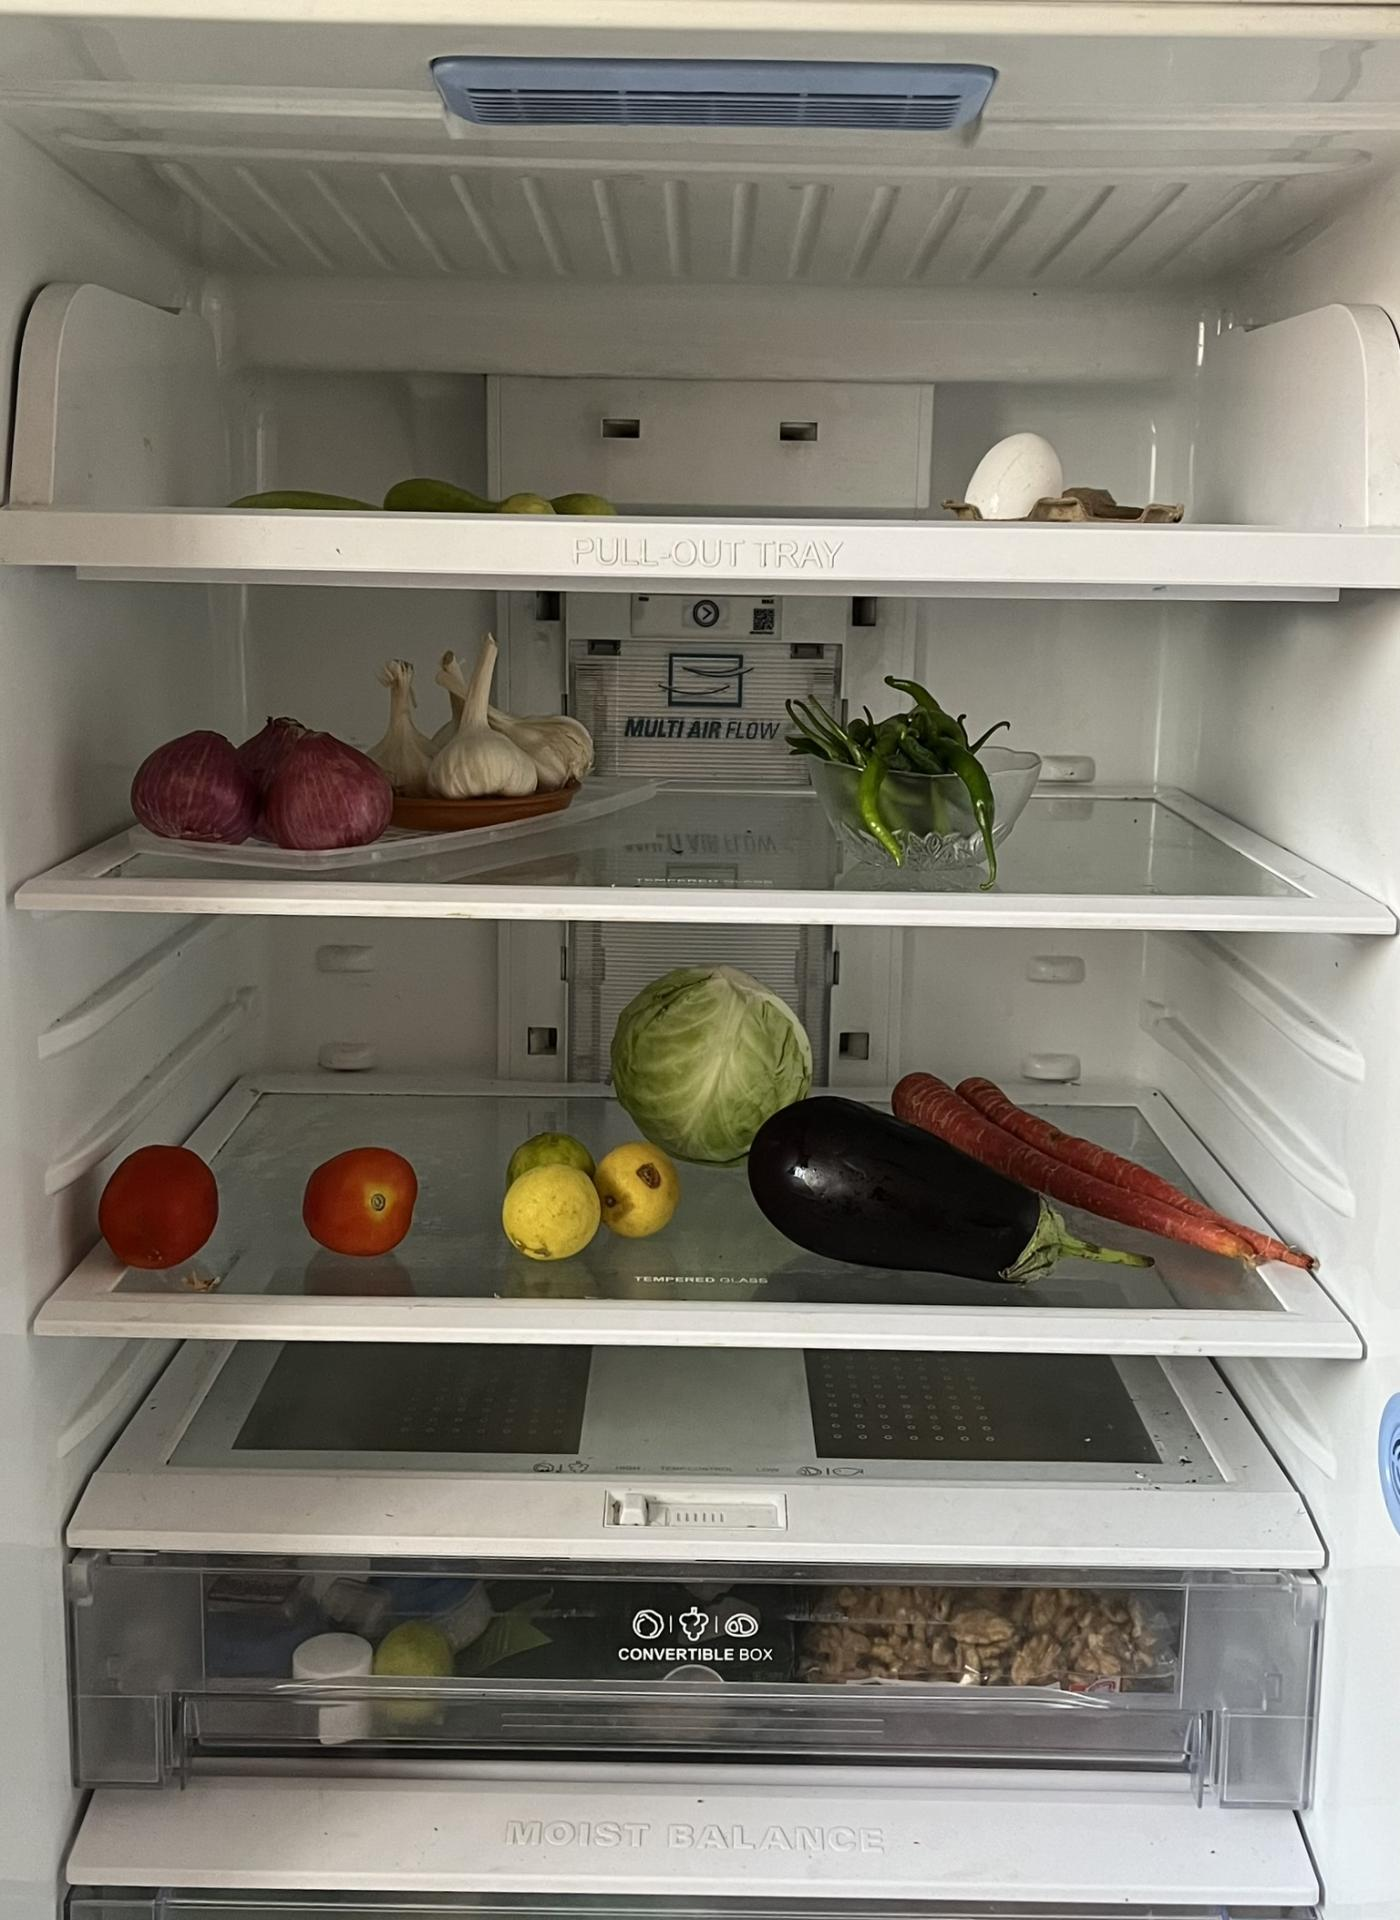brinjal: (748, 1099, 1090, 1272)
cabbage: (614, 967, 822, 1161)
carrots: (899, 1085, 1303, 1261)
chillies: (789, 684, 999, 869)
egg: (959, 423, 1066, 517)
garlic: (373, 631, 586, 796)
lemon: (501, 1124, 684, 1264)
onion: (136, 719, 395, 853)
tomato: (100, 1142, 222, 1278), (298, 1146, 417, 1266)
